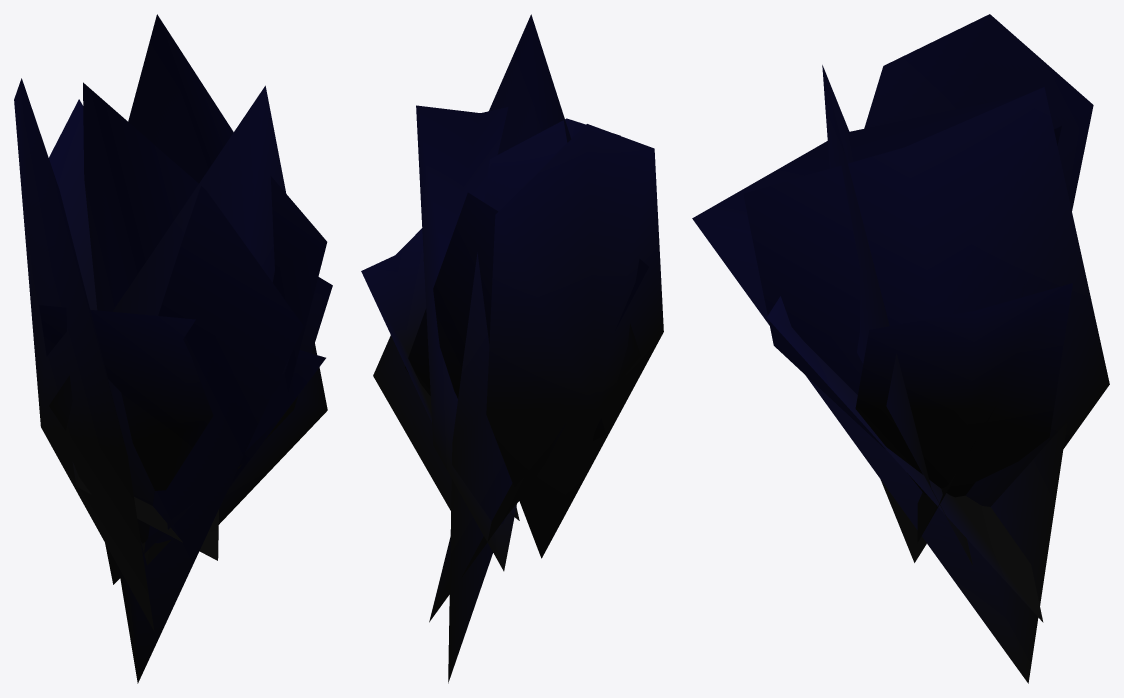
The model's file is SM_Foliage_ReedShoreA_02.fbx.
The picture shows the model from 3 angles, left to right: view 1: azimuth 30°, elevation 25°; view 2: azimuth 150°, elevation 25°; view 3: azimuth 270°, elevation 25°; orthographic projection. The views are drawn at different scales.
Visible parts, largest first — view 1: SM_Foliage_ReedShoreA_02; view 2: SM_Foliage_ReedShoreA_02; view 3: SM_Foliage_ReedShoreA_02.
Part boxes in pixels (<box>): SM_Foliage_ReedShoreA_02: <box>14,14,332,683</box>; SM_Foliage_ReedShoreA_02: <box>361,14,663,683</box>; SM_Foliage_ReedShoreA_02: <box>692,14,1109,683</box>.
Bounding box in the file's own units: 64.27 × 83.13 × 138.
